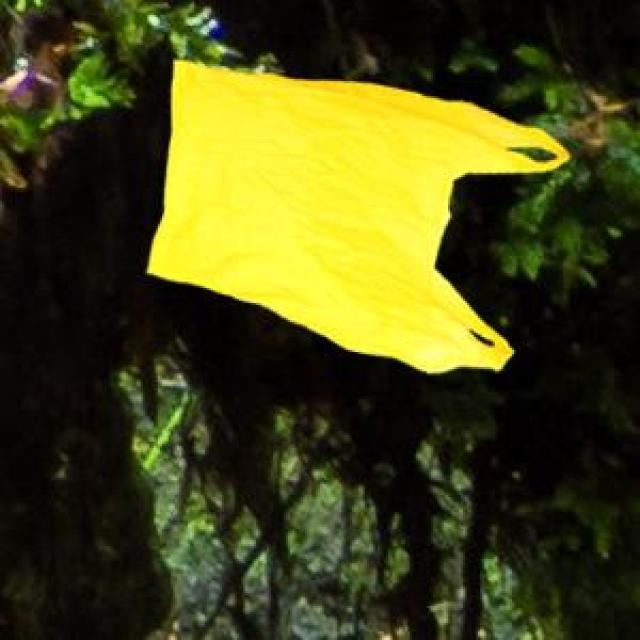plastic: (122, 37, 605, 404)
